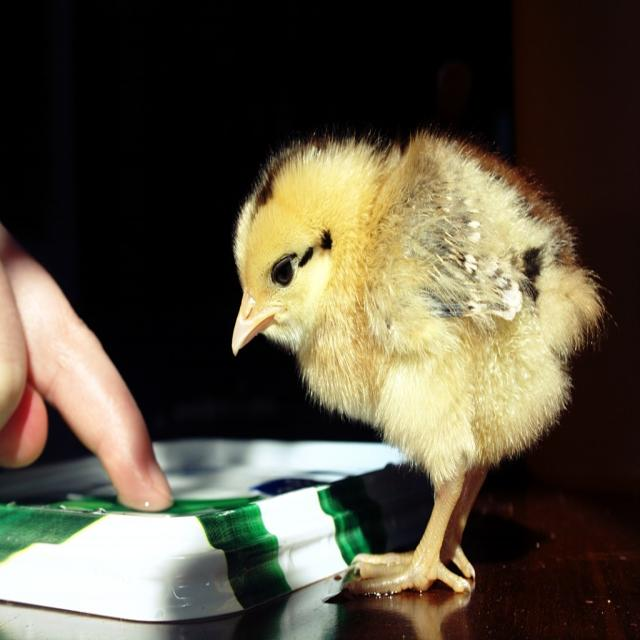Chicken: (222, 129, 595, 594)
